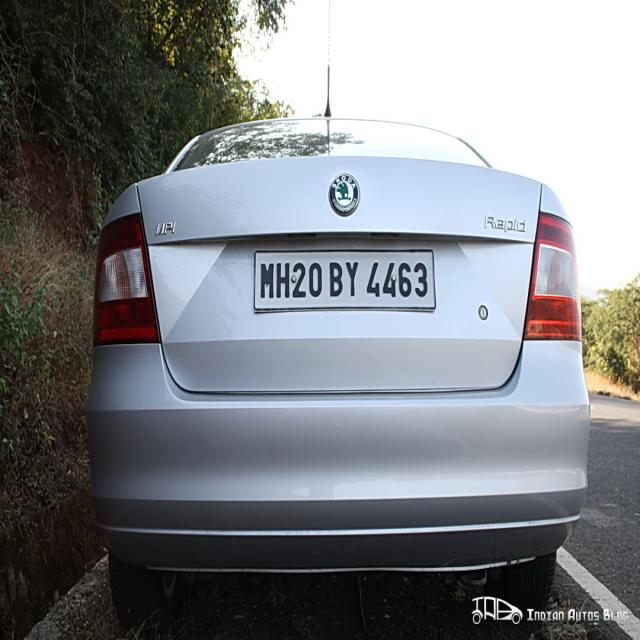Number-Plate: (255, 251, 436, 306)
